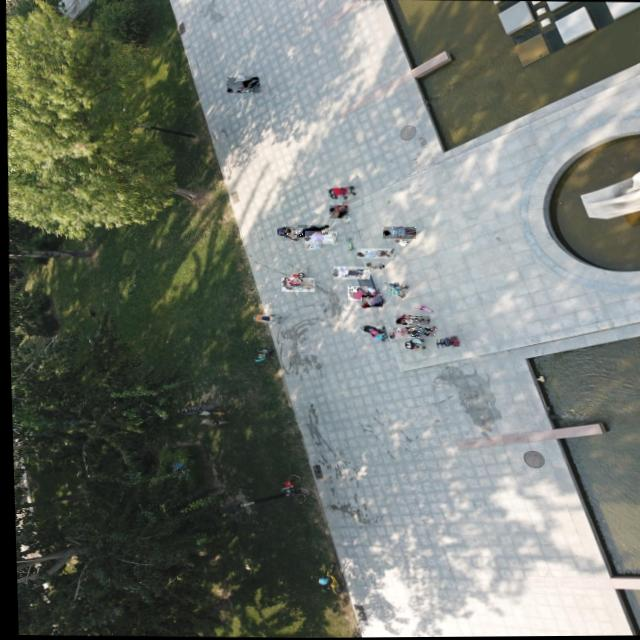Person: (226, 76, 258, 93), (331, 265, 369, 279), (279, 276, 312, 291), (303, 230, 335, 244), (386, 326, 417, 340), (381, 225, 414, 238), (355, 247, 392, 258), (296, 224, 327, 237), (393, 315, 428, 325), (345, 285, 366, 300), (275, 226, 297, 240), (410, 324, 434, 336), (359, 294, 381, 306), (328, 204, 346, 217), (282, 276, 300, 285), (362, 284, 376, 294), (394, 236, 406, 246), (400, 314, 413, 323), (303, 242, 319, 249), (364, 263, 382, 269), (286, 227, 301, 233), (390, 332, 405, 338), (407, 329, 419, 336), (235, 74, 245, 80)
